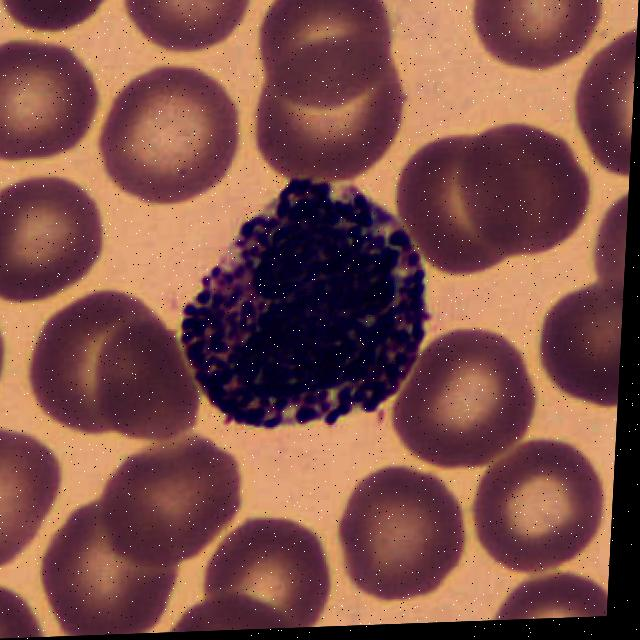basophil: (167, 175, 438, 418)
rbc: (372, 336, 550, 471), (324, 465, 475, 613), (94, 428, 251, 566), (33, 508, 190, 635), (258, 58, 413, 182), (380, 135, 510, 279), (468, 133, 602, 264), (477, 445, 613, 571), (100, 81, 245, 195), (31, 296, 145, 432), (0, 165, 112, 299), (268, 0, 399, 110), (96, 311, 199, 441), (0, 43, 98, 170), (206, 528, 338, 617), (101, 0, 259, 66), (537, 297, 623, 412), (459, 0, 609, 64), (0, 423, 59, 579), (570, 33, 637, 170), (485, 575, 609, 621), (174, 594, 303, 632), (0, 0, 122, 34), (590, 205, 628, 289), (0, 580, 38, 640), (0, 309, 2, 422), (112, 180, 115, 192)
